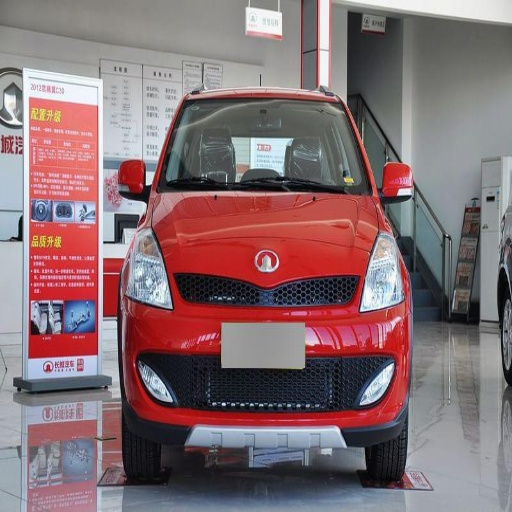front_bumper: (127, 259, 407, 467)
front_right_light: (125, 230, 172, 309)
hood: (150, 192, 380, 286)
left_mirror: (381, 162, 413, 203)
trunk: (272, 293, 337, 335), (188, 290, 264, 325)
